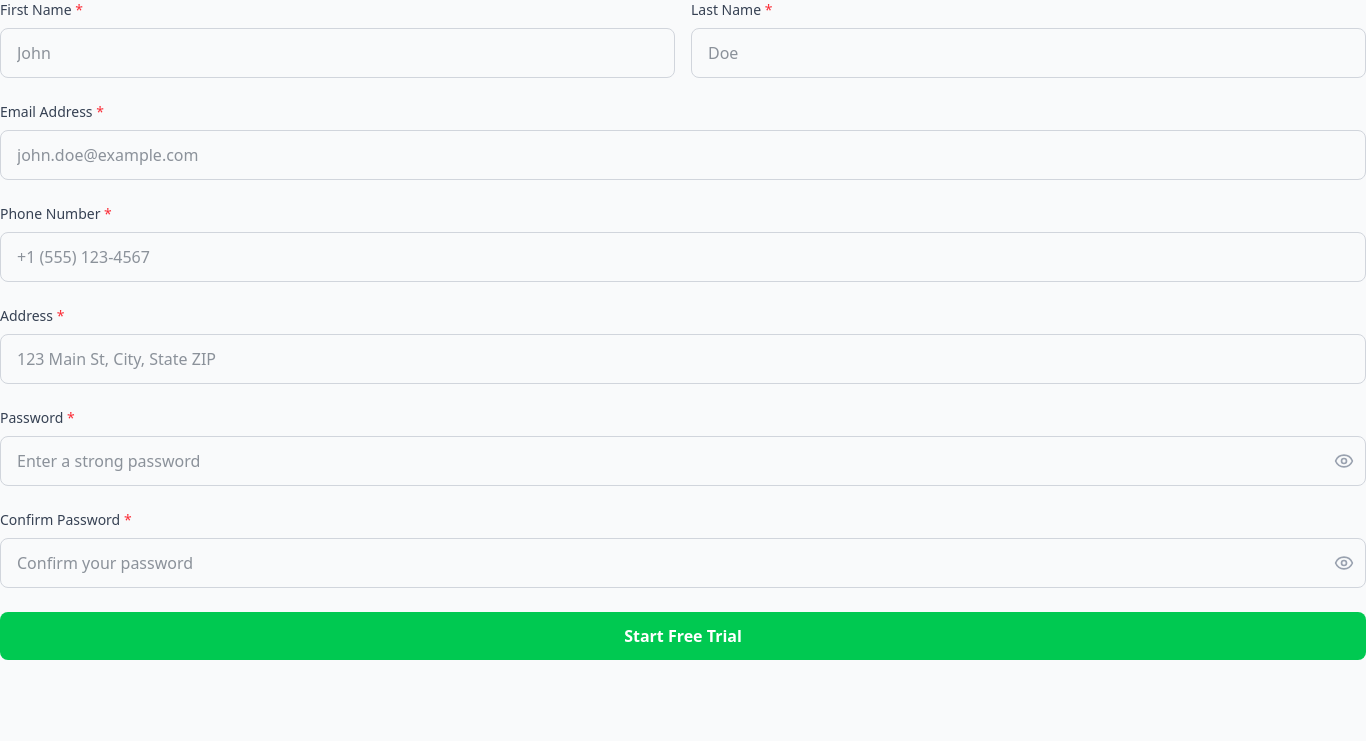
Scenario: RegistrationForm › Password Strength Validation › should validate password strength requirements
Type "weakpass" into the password field labelled "Password *" at (683, 461), box x1=0 y1=436 x2=1365 y2=486
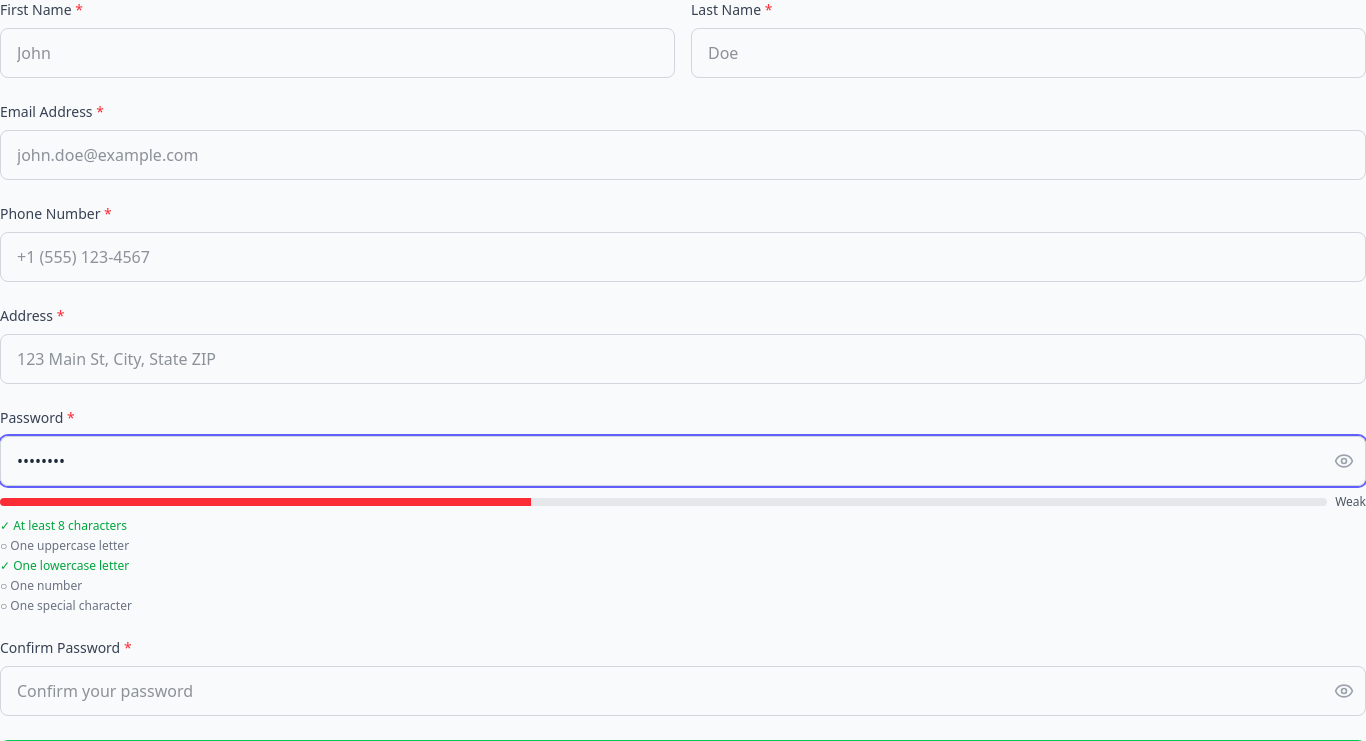
Expected: the list item "○ One uppercase letter" is shown, x1=0 y1=537 x2=129 y2=554
Expected: the list item "○ One special character" is shown, x1=0 y1=597 x2=132 y2=614
